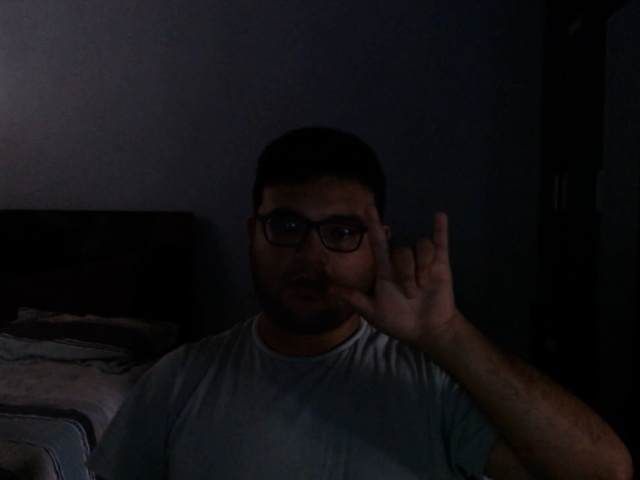I love you: (328, 200, 469, 354)
